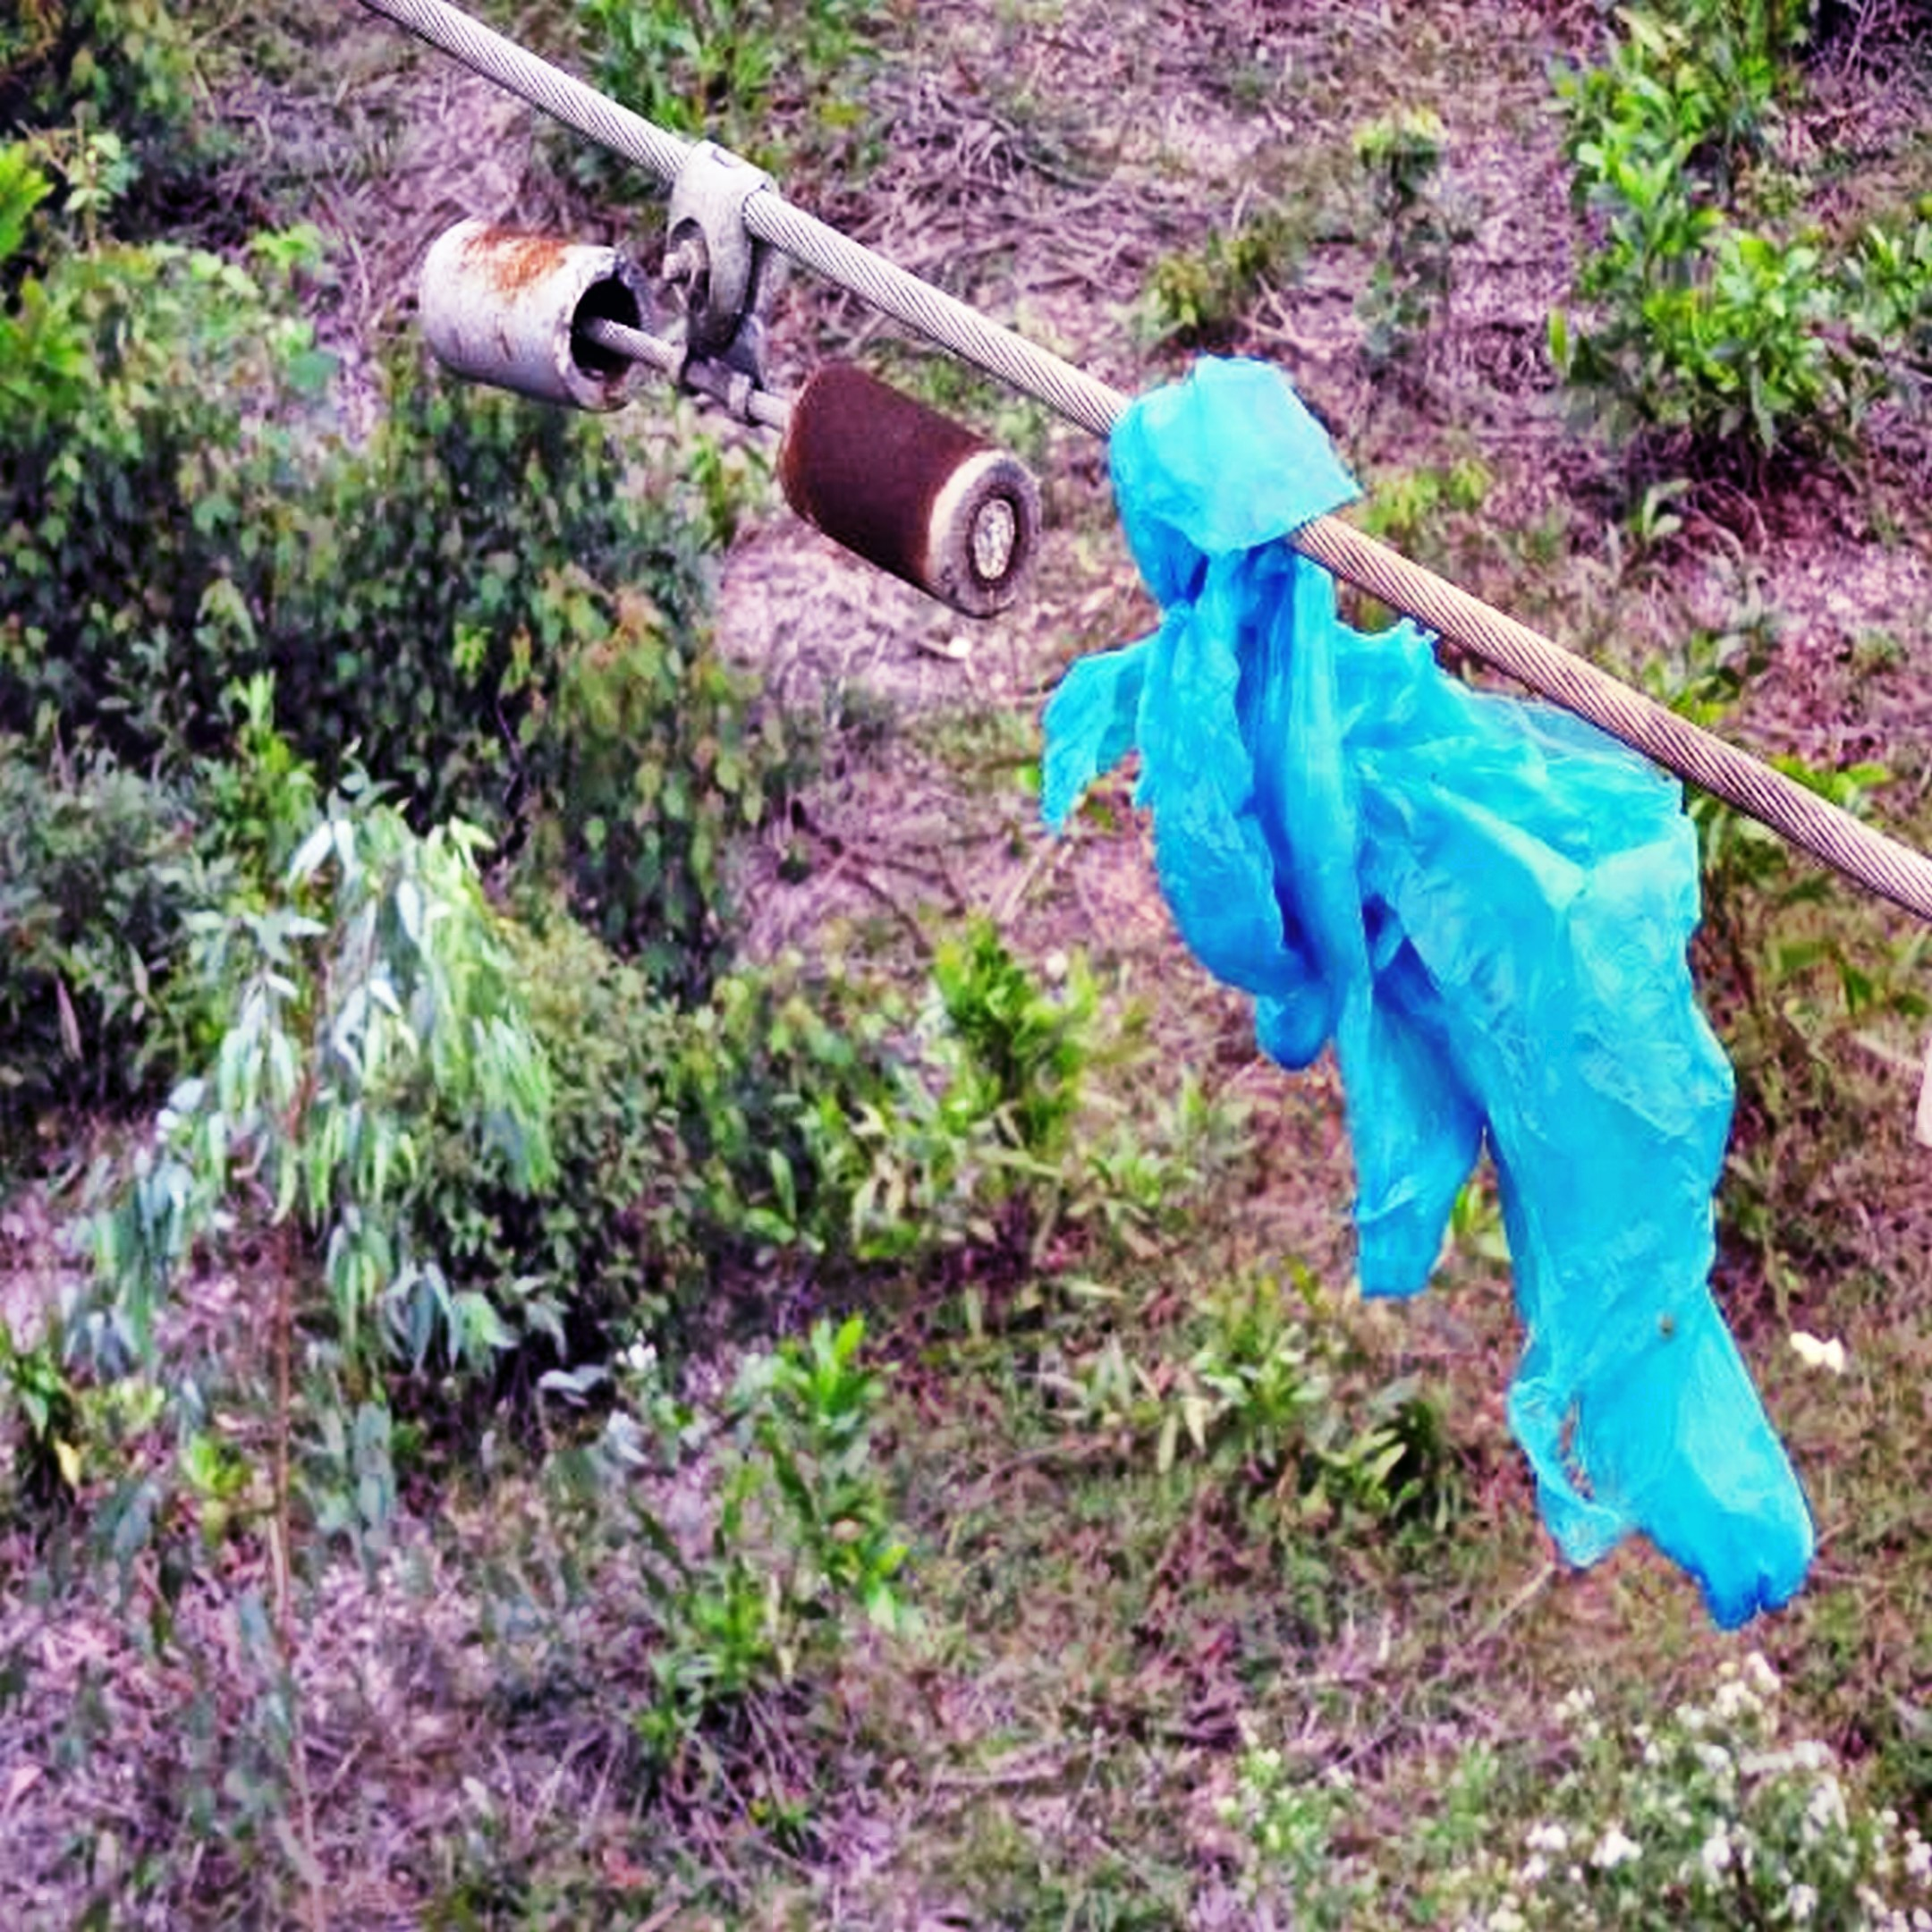wire foreign body: (1060, 373, 1849, 1580)
